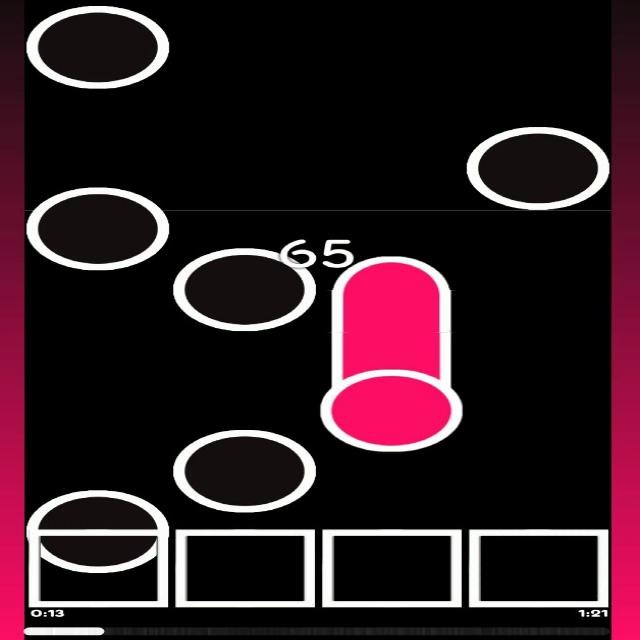end_hold: (334, 245, 453, 302)
note: (466, 121, 612, 216), (23, 3, 171, 92), (26, 184, 170, 274), (174, 248, 318, 334), (176, 426, 313, 516), (31, 489, 170, 573)
start_hold: (318, 351, 466, 453)
